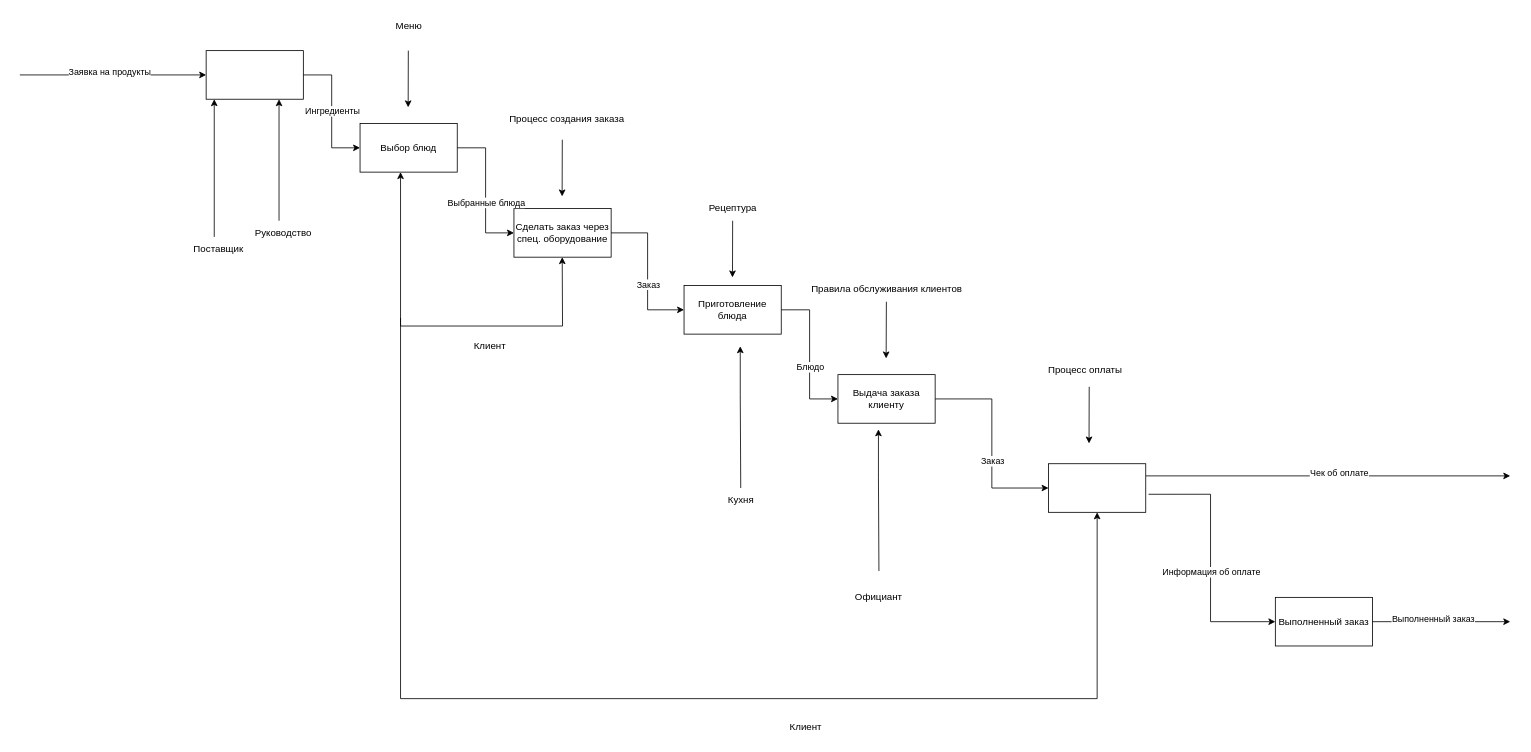
This 1531x752 diagram has some shape labels left out. Each missing label, with the box of its shape:
Оплата заказа: (1048, 463, 1146, 512)
Поставка продуктов: (205, 50, 303, 99)
